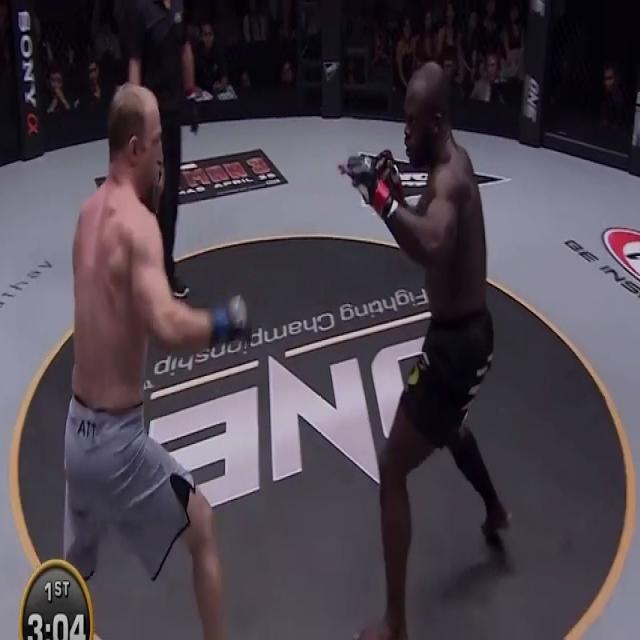fight: (60, 34, 520, 638)
